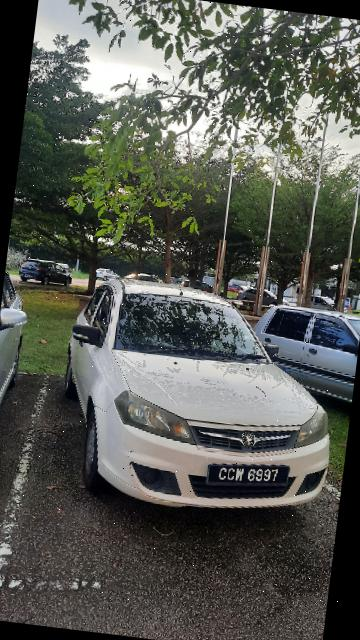License_Plate: (203, 453, 303, 499)
car: (48, 267, 356, 538), (248, 294, 360, 414)
